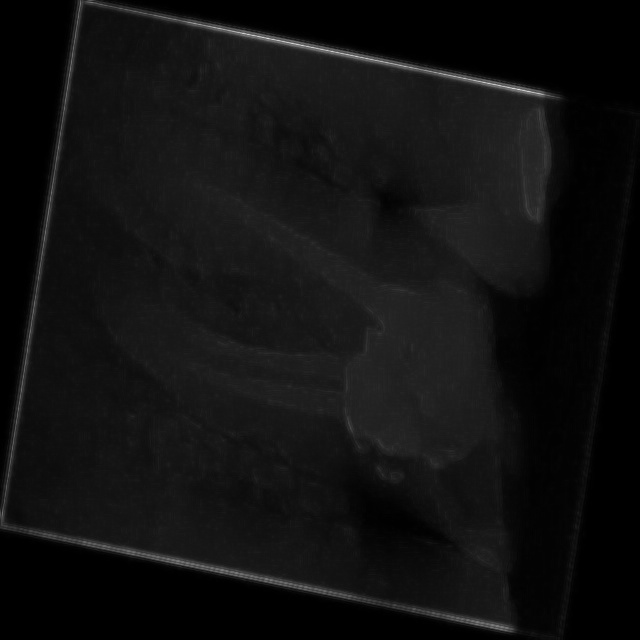Class 1- complete endodontic treatment: (42, 91, 549, 550)
